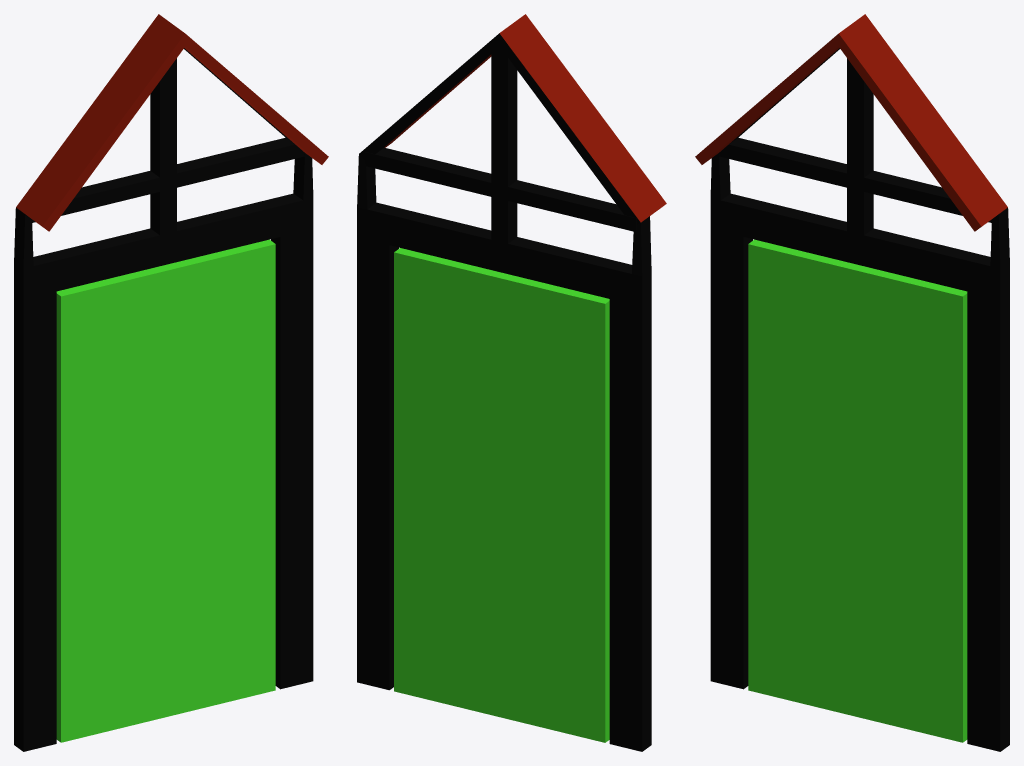
The model's file is DoorArch.fbx.
3 renders of one model, left to right at view 1: azimuth 30°, elevation 25°; view 2: azimuth 150°, elevation 25°; view 3: azimuth 330°, elevation 25°, orthographic.
Visible parts, largest first — view 1: Door; view 2: Door; view 3: Door.
Part boxes in pixels (x1,y1,x2,y2): Door: (14,14,328,751); Door: (357,14,666,751); Door: (695,14,1009,751).
Bounding box in the file's own units: 136 × 312 × 21.91.
